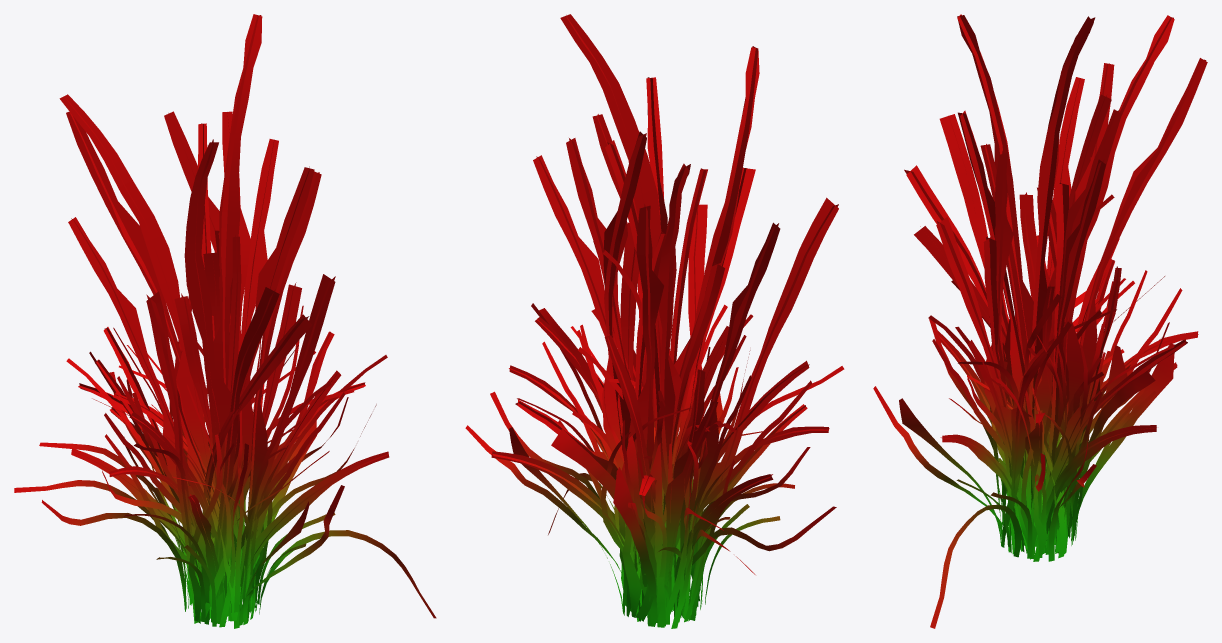
File: SM_Dry_Wheatgrass_03.FBX
The picture shows the model from 3 angles, left to right: view 1: azimuth 30°, elevation 25°; view 2: azimuth 150°, elevation 25°; view 3: azimuth 270°, elevation 25°; orthographic projection. The views are drawn at different scales.
Visible parts, largest first — view 1: SM_Dry_Wheatgrass_03; view 2: SM_Dry_Wheatgrass_03; view 3: SM_Dry_Wheatgrass_03.
Boxes of the visible parts, x1,y1,x2,y2 form: SM_Dry_Wheatgrass_03: (14,14,436,628); SM_Dry_Wheatgrass_03: (465,14,844,628); SM_Dry_Wheatgrass_03: (873,14,1207,628).
Bounding box in the file's own units: 58.48 × 51.52 × 96.02.
